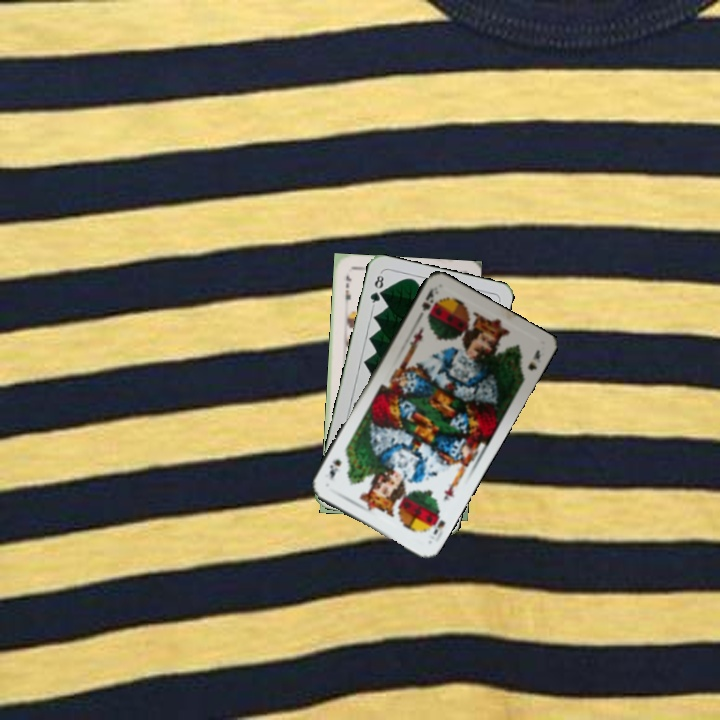E7: (341, 271, 354, 309)
G8: (366, 269, 386, 309)
SK: (413, 283, 442, 323), (424, 506, 448, 537)
